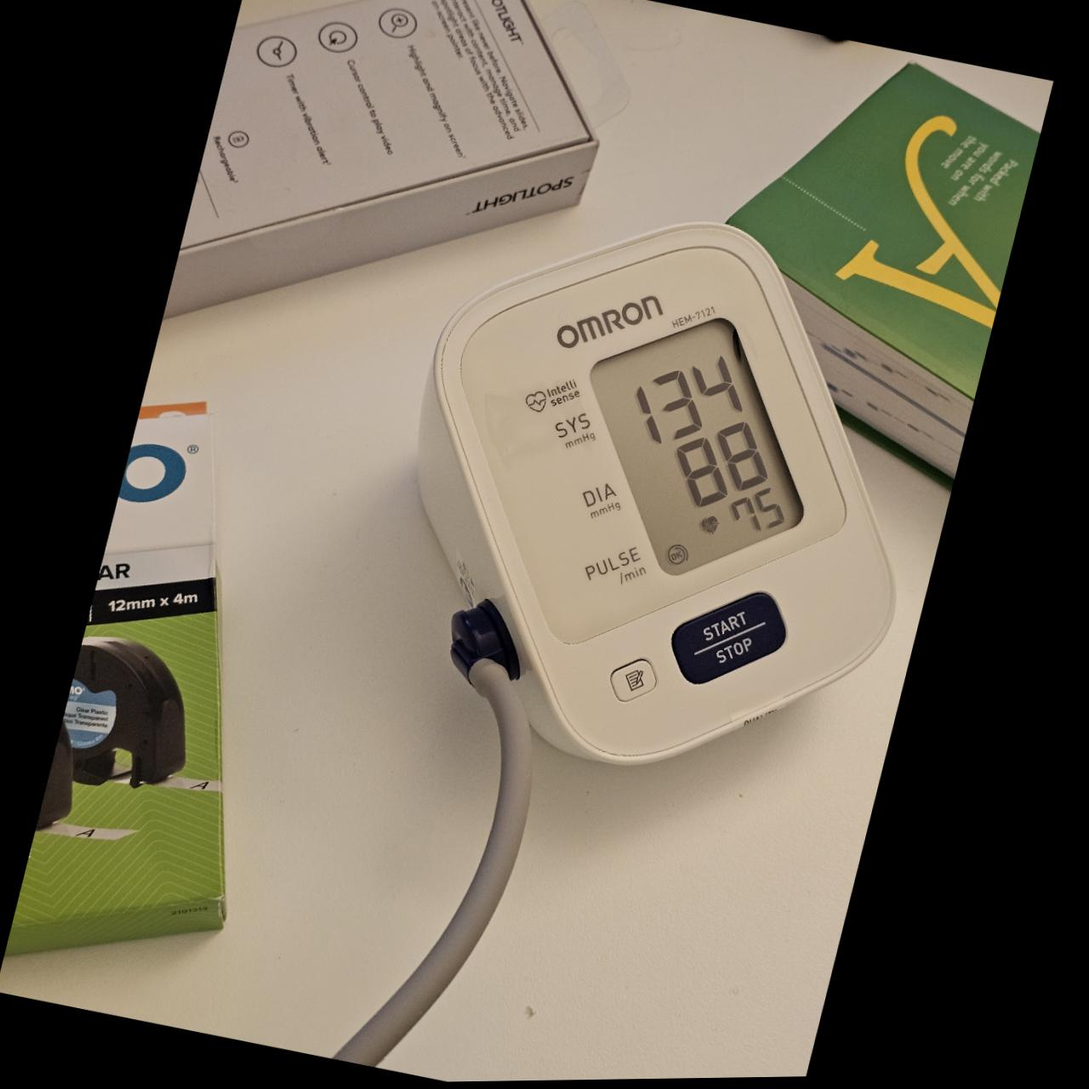lcd display: (544, 292, 848, 600)
